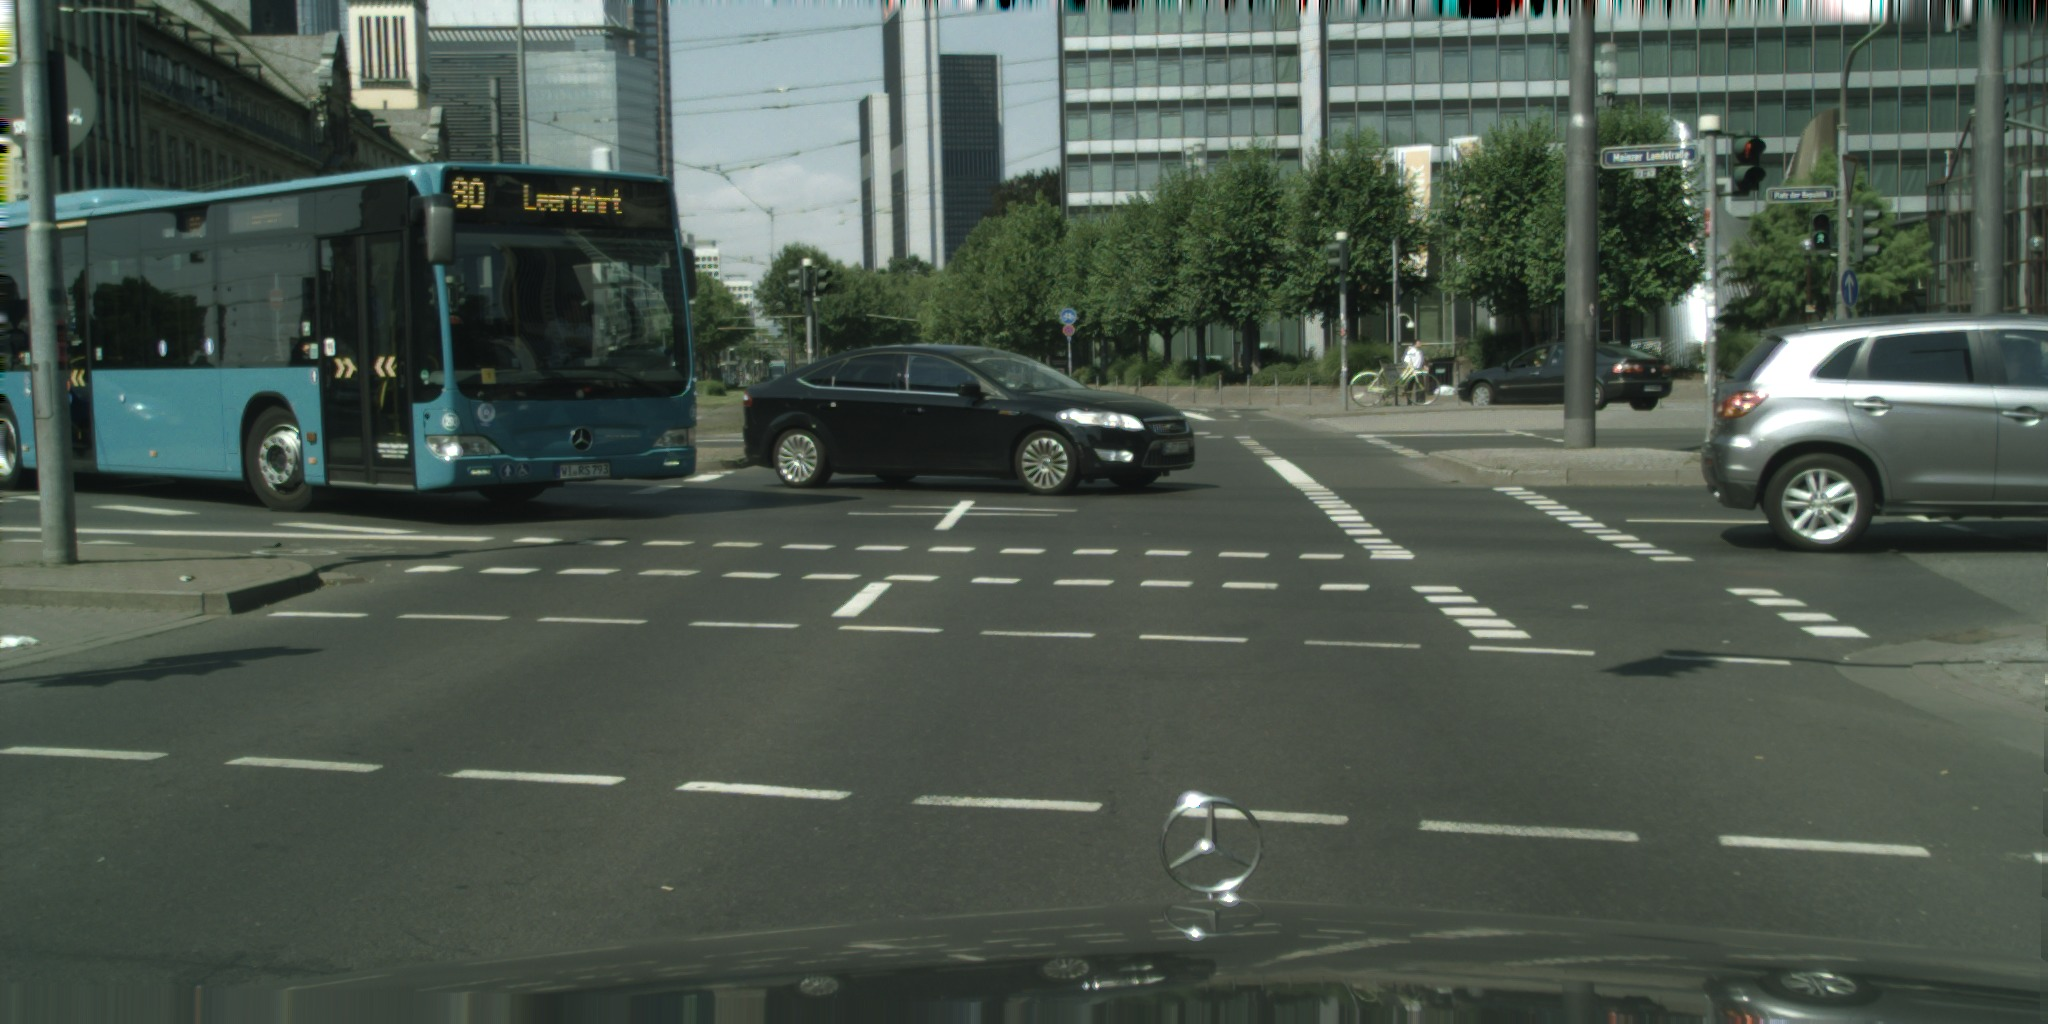bicycle: (1348, 352, 1440, 407)
bus: (0, 162, 697, 512)
car: (1699, 314, 2047, 552), (742, 342, 1196, 496), (1455, 341, 1672, 411)
person: (1402, 340, 1428, 405)
train: (768, 359, 785, 386)
